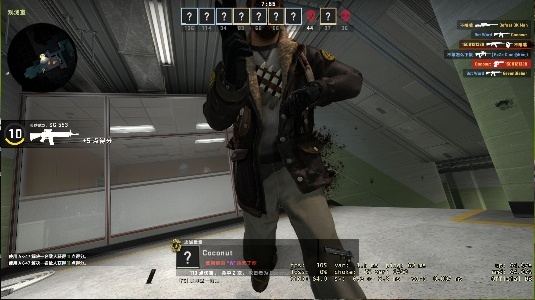body: (194, 1, 369, 300)
head: (245, 2, 286, 37)
